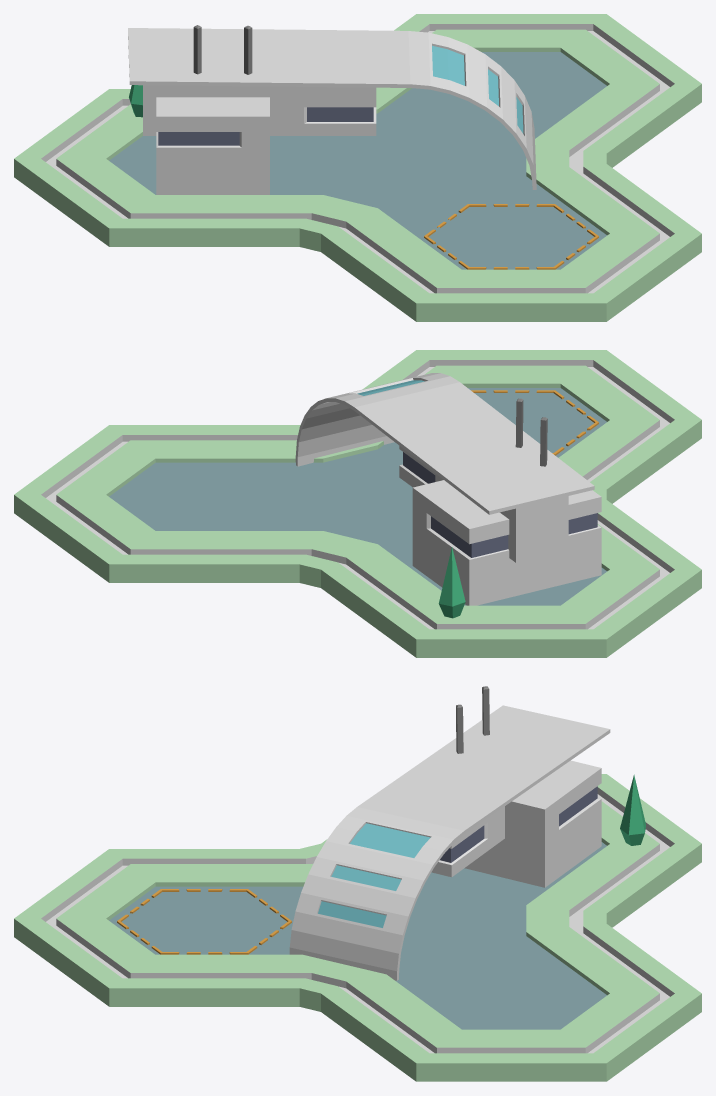
Rendered from npc_Role_Seed_LV1.fbx.
The picture shows the model from 3 angles, top to bottom: view 1: azimuth 30°, elevation 25°; view 2: azimuth 150°, elevation 25°; view 3: azimuth 270°, elevation 25°; orthographic projection.
Parts seen in each view (by area): view 1: 柱体.002; view 2: 柱体.002; view 3: 柱体.002.
Boxes of the visible parts, x1,y1,x2,y2 form: 柱体.002: (14,14,701,321); 柱体.002: (14,350,701,657); 柱体.002: (14,686,701,1081).
Bounding box in the file's own units: 334 × 93.28 × 336.
